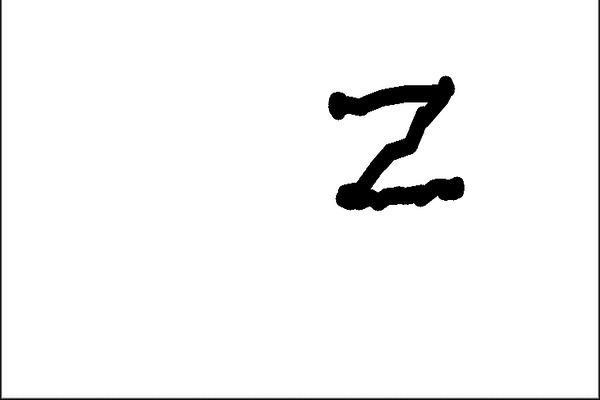Z: (320, 68, 477, 213)
